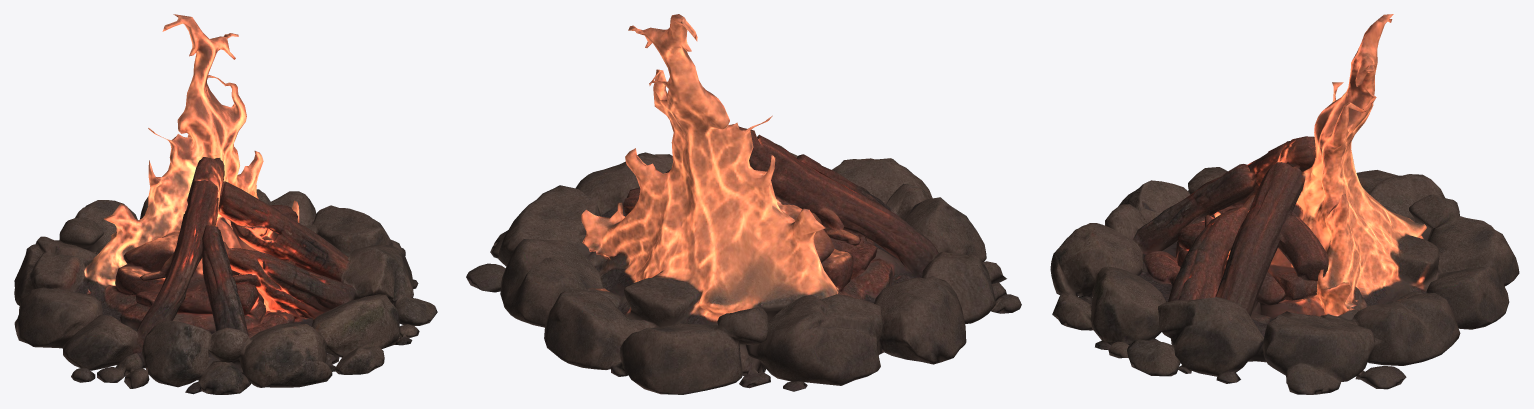
File: campfire.glb
3 views of the same model, side by side, from view 1: azimuth 30°, elevation 25°; view 2: azimuth 150°, elevation 25°; view 3: azimuth 270°, elevation 25° (orthographic). The views are drawn at different scales.
Visible parts, largest first — view 1: frame; view 2: frame; view 3: frame.
Boxes of the visible parts, <box> form: frame: <box>14,14,437,394</box>; frame: <box>466,14,1021,394</box>; frame: <box>1050,14,1519,394</box>.
Size of the model in its own units: 1.6 by 1.03 by 1.56.
1 material, 1 textured.
